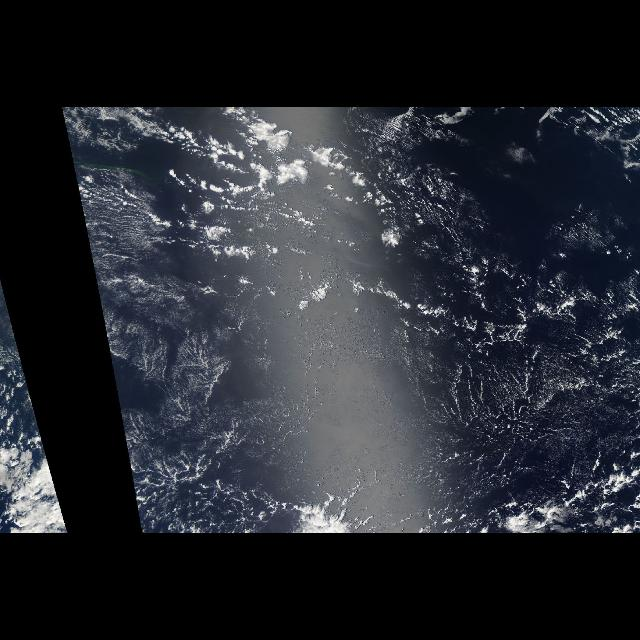Gravel: (416, 248, 632, 482), (143, 110, 361, 332)
Sugar: (82, 107, 640, 529)
